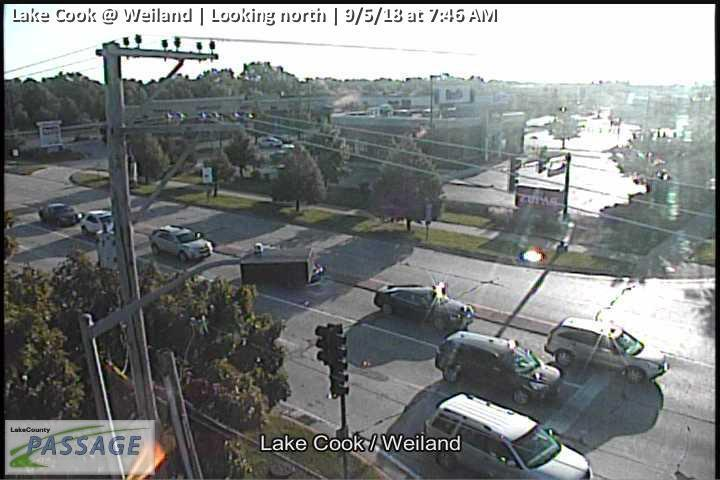SUV: (423, 393, 593, 480), (434, 330, 562, 404), (545, 317, 668, 384), (149, 225, 212, 264), (81, 208, 125, 240), (38, 202, 84, 227)
Sedan: (374, 282, 474, 331)
